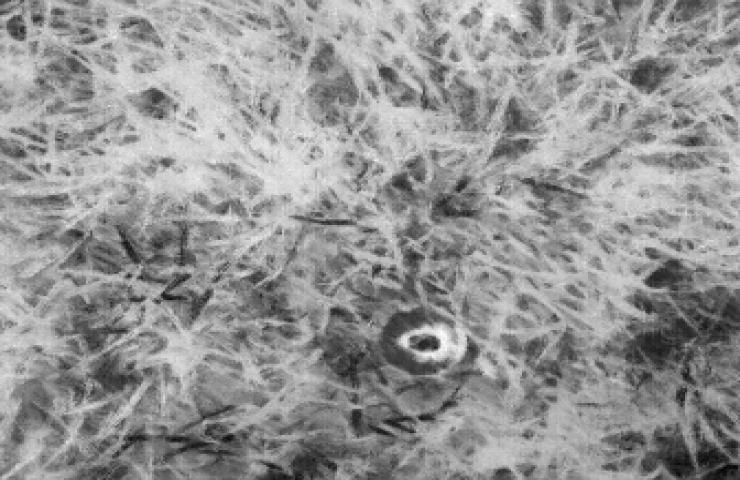landmines: (375, 296, 477, 389)
